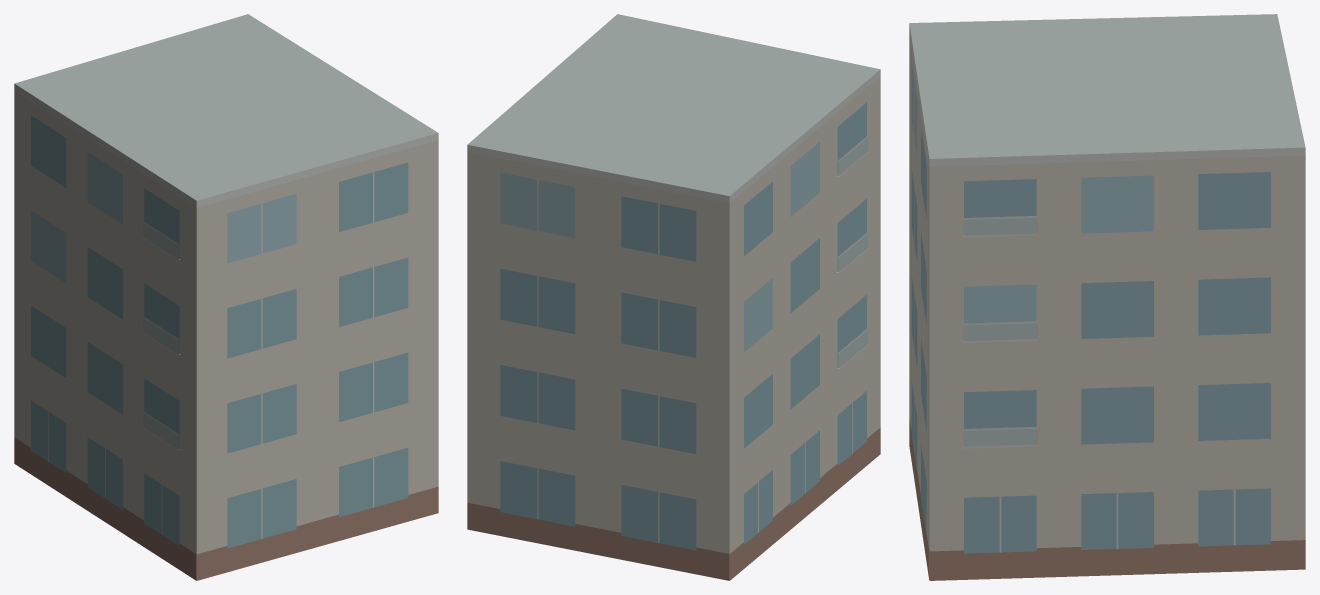
The model's file is survey-upis-32743116.glb.
3 views of the same model, side by side, from view 1: azimuth 30°, elevation 25°; view 2: azimuth 150°, elevation 25°; view 3: azimuth 270°, elevation 25° (orthographic). The views are drawn at different scales.
Parts seen in each view (by area): view 1: survey-upis-32743116.tmp; view 2: survey-upis-32743116.tmp; view 3: survey-upis-32743116.tmp.
Part boxes in pixels (x1=…): survey-upis-32743116.tmp: x1=14, y1=14, x2=438, y2=580; survey-upis-32743116.tmp: x1=467, y1=14, x2=880, y2=580; survey-upis-32743116.tmp: x1=909, y1=14, x2=1305, y2=580.
Size of the model in its own units: 9.69 by 13.14 by 11.19.
